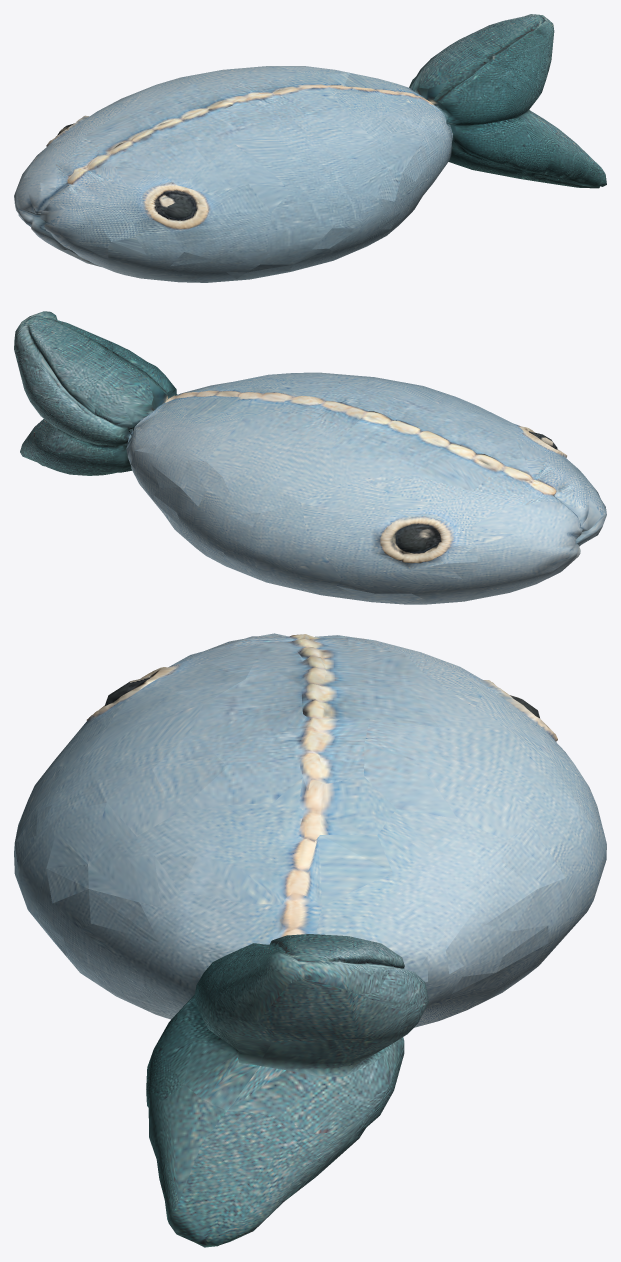
The model's file is fish.glb.
3 views of the same model, one above another, from view 1: azimuth 30°, elevation 25°; view 2: azimuth 150°, elevation 25°; view 3: azimuth 270°, elevation 25° (orthographic). The views are drawn at different scales.
Parts seen in each view (by area): view 1: tripo_node_71299c48; view 2: tripo_node_71299c48; view 3: tripo_node_71299c48.
Part boxes in pixels (x1,y1,x2,y2): tripo_node_71299c48: [14, 14, 606, 282]; tripo_node_71299c48: [14, 311, 606, 604]; tripo_node_71299c48: [14, 633, 606, 1247].
Bounding box in the file's own units: 0.2927 × 0.0797 × 0.1597.
Materials: 1 (1 with a texture image).
